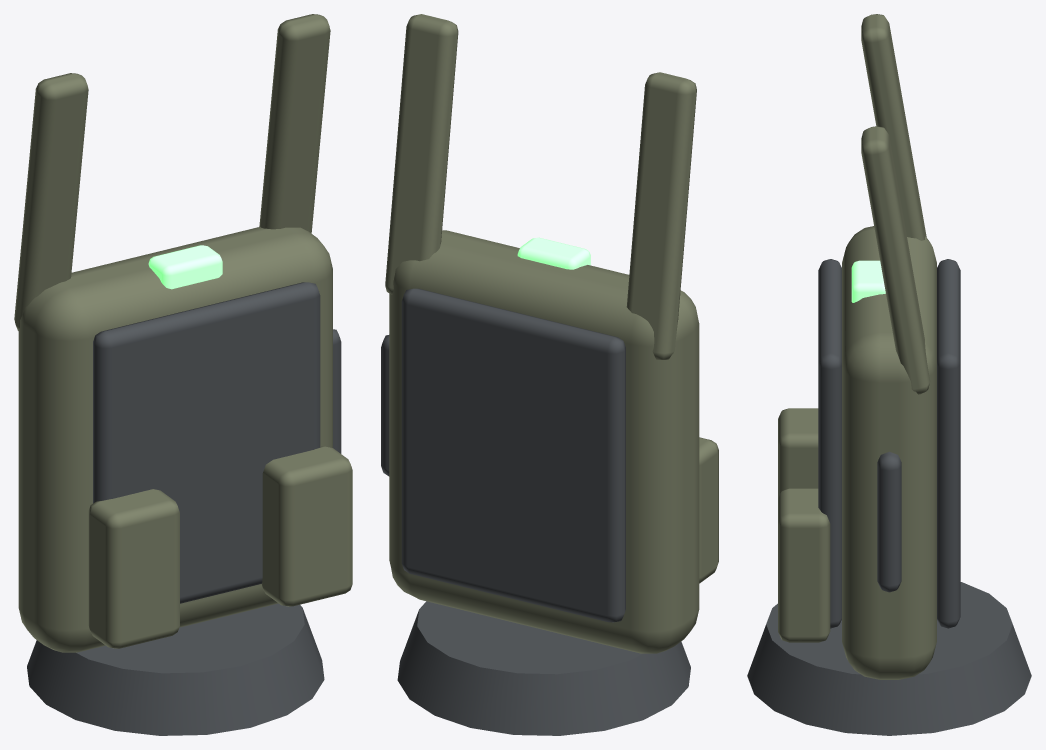
File: battle-royale-town-and-airfield-plate-carrier-vest-5f7180b1__28224.glb
The picture shows the model from 3 angles, left to right: view 1: azimuth 30°, elevation 25°; view 2: azimuth 150°, elevation 25°; view 3: azimuth 270°, elevation 25°; orthographic projection. The views are drawn at different scales.
Parts seen in each view (by area): view 1: plate-carrier-vest; view 2: plate-carrier-vest; view 3: plate-carrier-vest.
Boxes of the visible parts, x1,y1,x2,y2 form: plate-carrier-vest: (14, 14, 352, 735); plate-carrier-vest: (381, 14, 718, 735); plate-carrier-vest: (747, 14, 1031, 735).
Size of the model in its own units: 0.36 by 0.6968 by 0.3.
